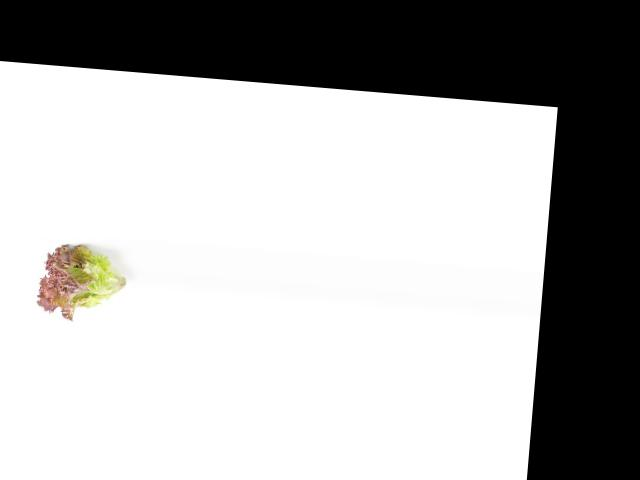lettuce: (31, 239, 140, 323)
